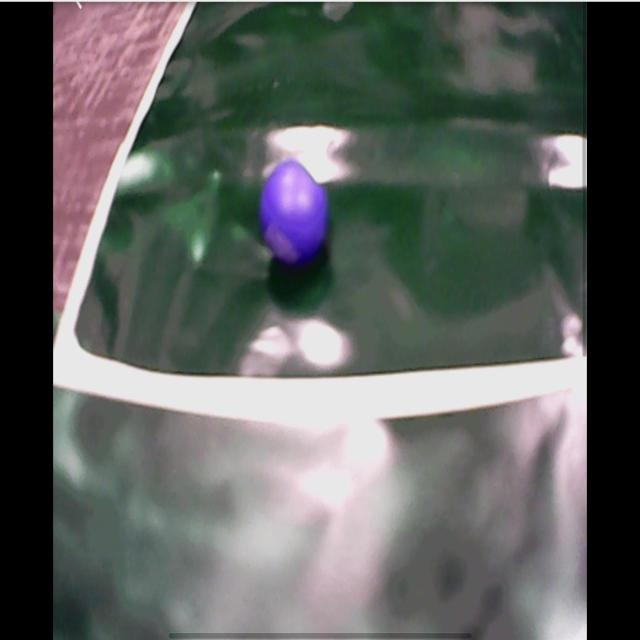ball: (262, 161, 330, 265)
